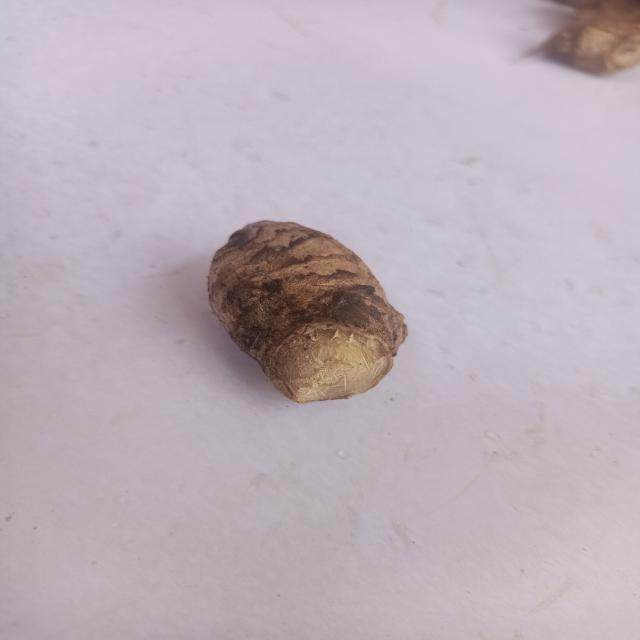Ginger: (162, 188, 442, 422)
